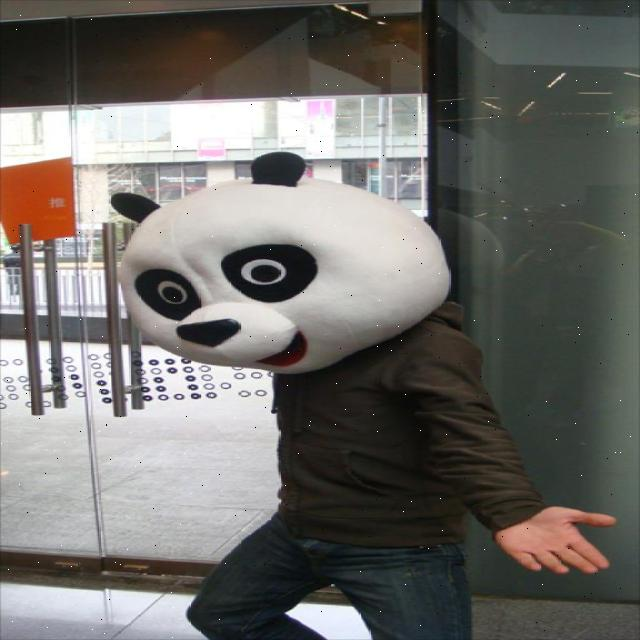panda: (115, 148, 453, 378), (117, 152, 454, 379)
